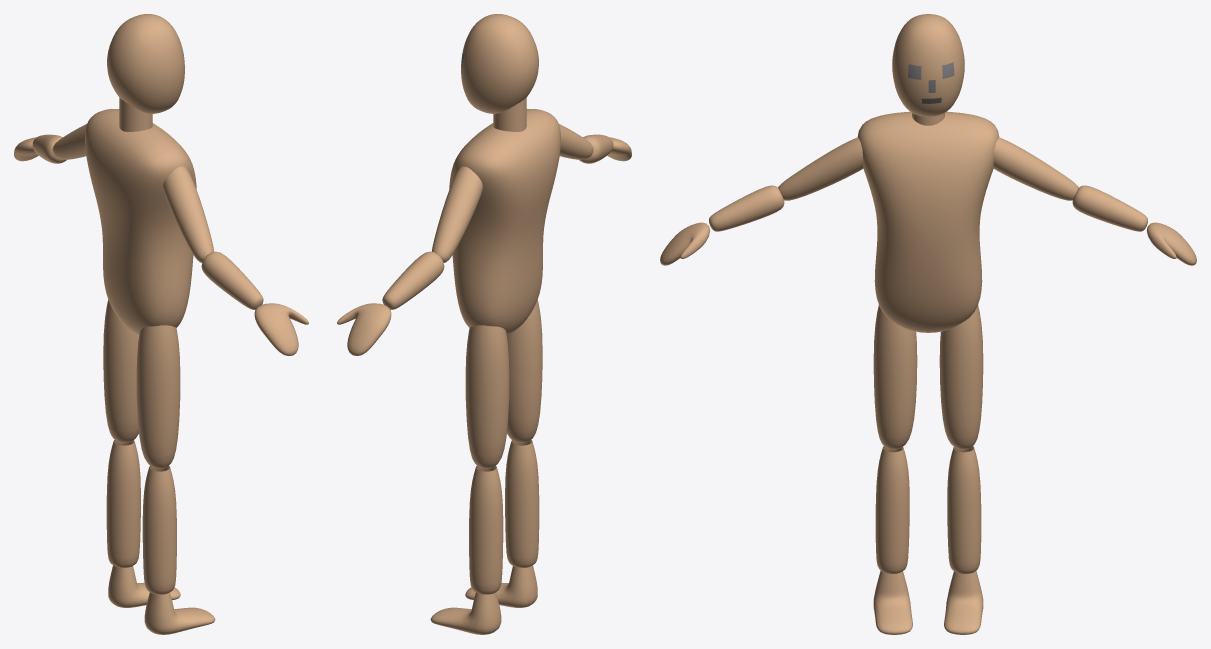
Rendered from Character Model  1.fbx.
The picture shows the model from 3 angles, left to right: view 1: azimuth 30°, elevation 25°; view 2: azimuth 150°, elevation 25°; view 3: azimuth 270°, elevation 25°; orthographic projection.
Parts seen in each view (by area): view 1: Character; view 2: Character; view 3: Character.
Part boxes in pixels (x1,y1,x2,y2): Character: (14, 14, 308, 634); Character: (337, 14, 631, 634); Character: (660, 14, 1196, 634).
Size of the model in its own units: 32.33 by 204 by 166.
